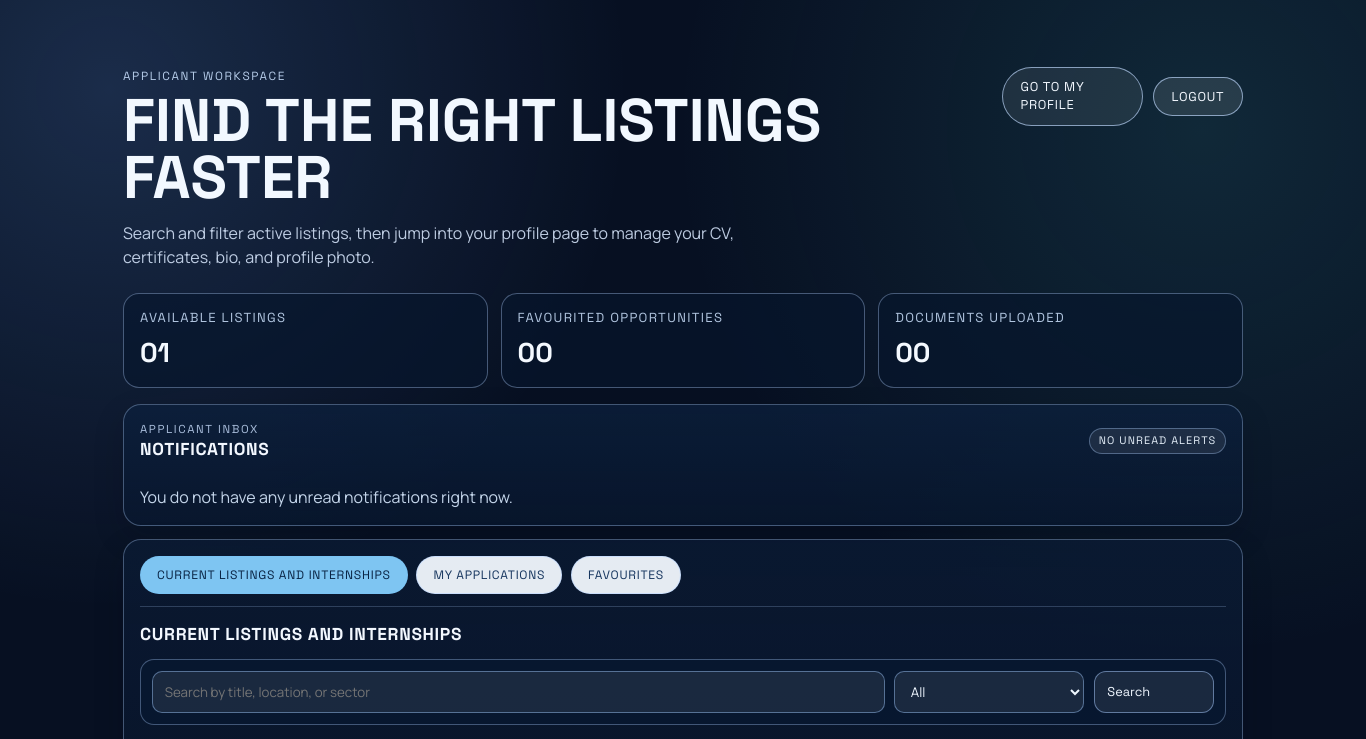
Scenario: Applicant favourite listings acceptance tests › saves an approved listing to the applicant favourites table
The width and height of the screenshot is (1366, 739).
Click the tab "Favourites" at (626, 575), box [571,556,681,594]
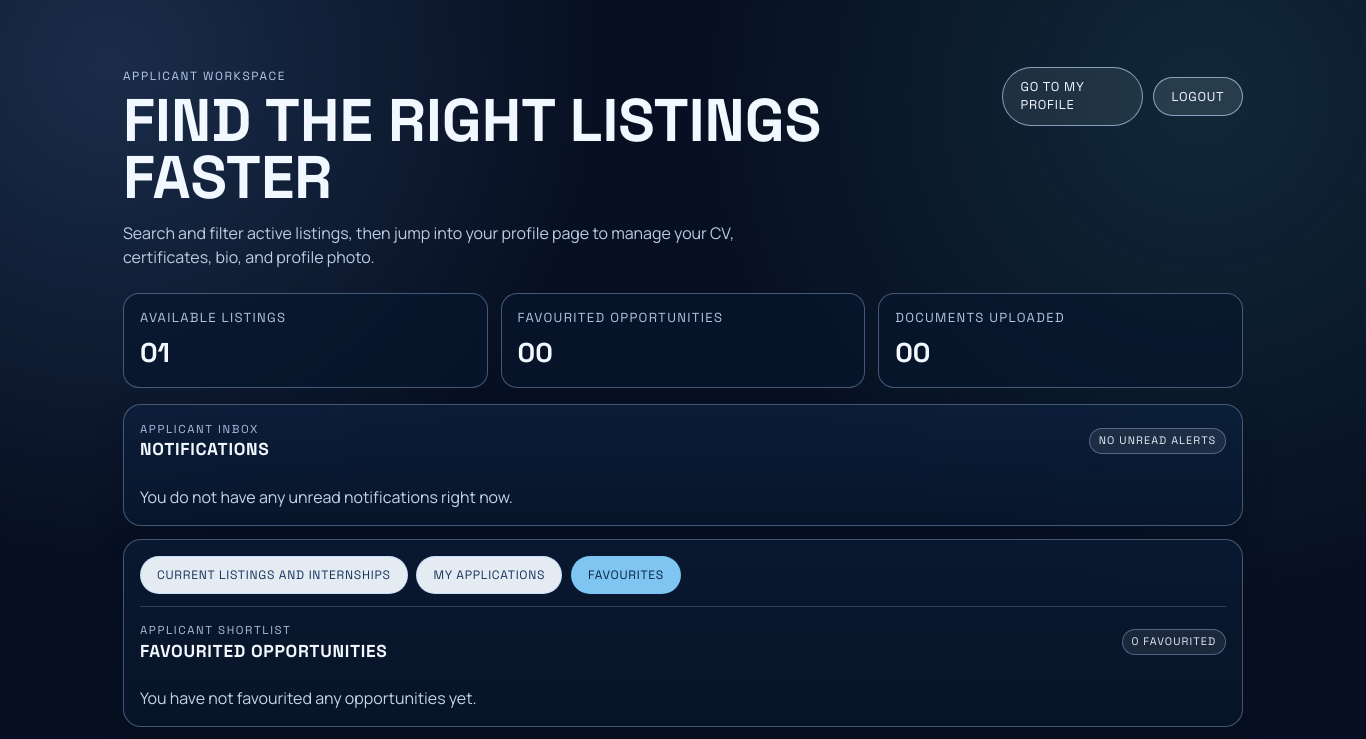
Click the tab "Current Listings and Internships" at (274, 575), box [140,556,408,594]
(page scrolled)
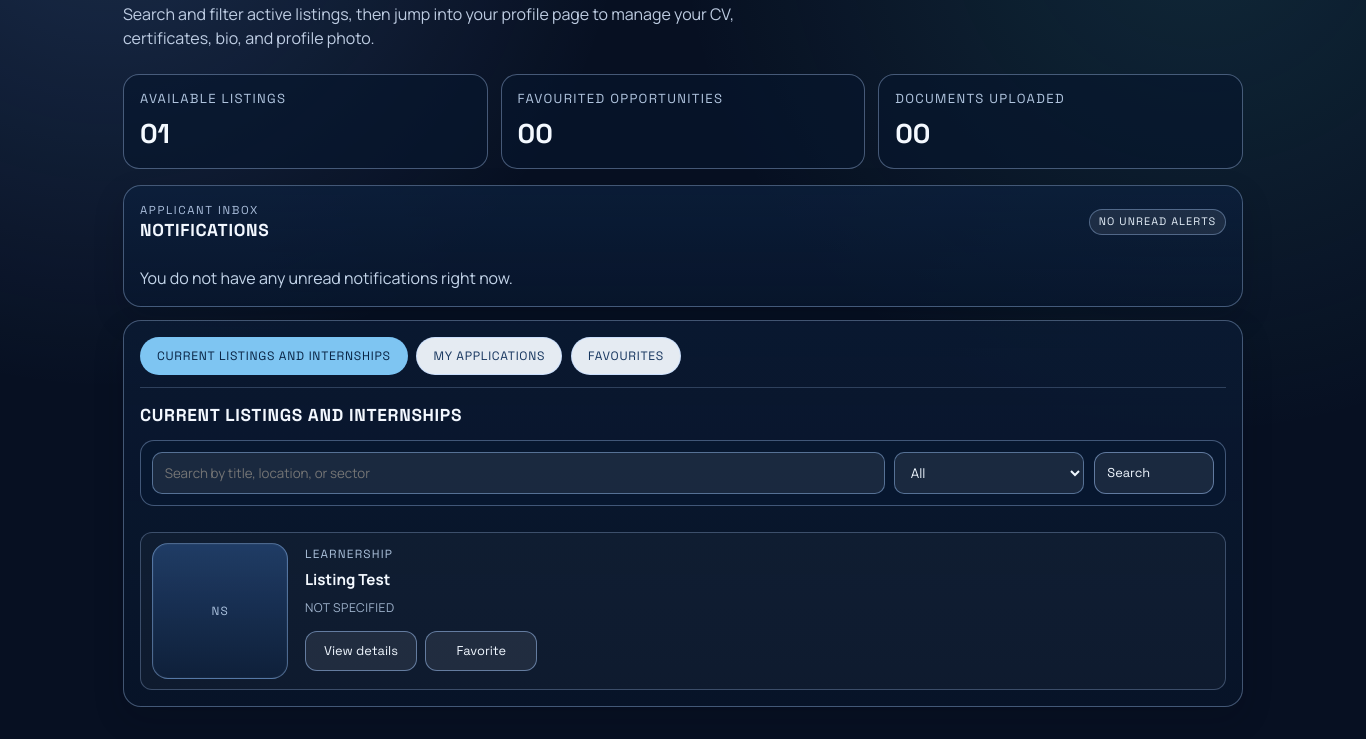
Click the button with aria-label "Favorite Listing Test" at (481, 652), box [425,632,537,672]
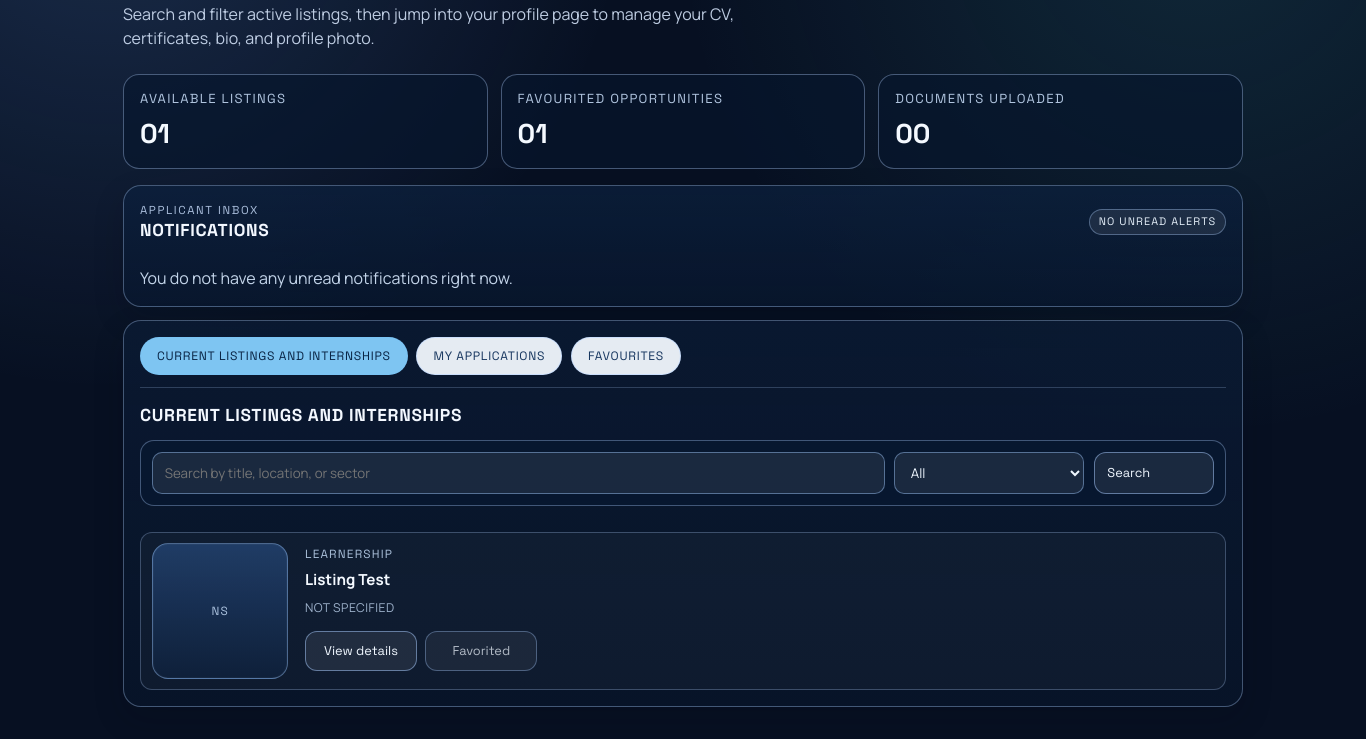
Now the button with aria-label "Listing Test is already favourited" is disabled, box [425,632,537,672]
Click the tab "Favourites" at (626, 356), box [571,337,681,375]
(page scrolled)
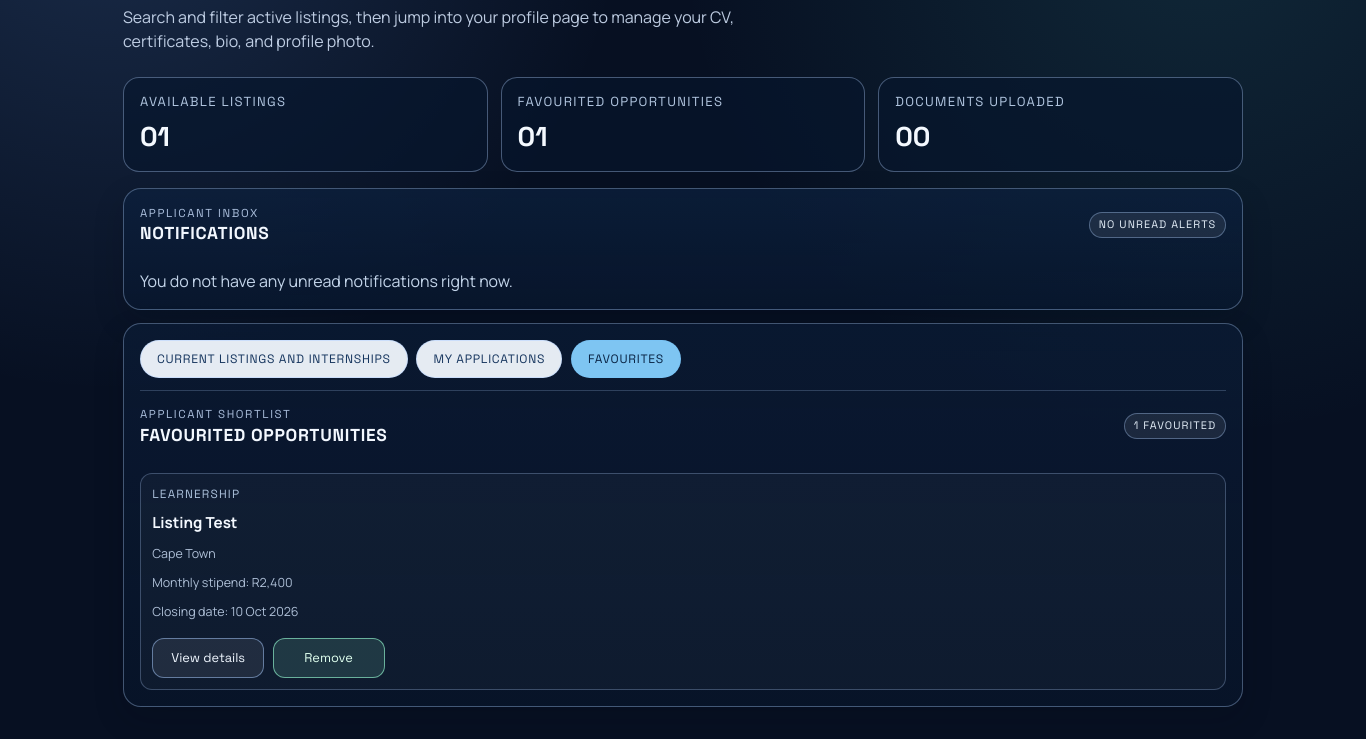
Now the button with aria-label "Remove favourited Listing Test" is shown, box [272,638,384,678]
